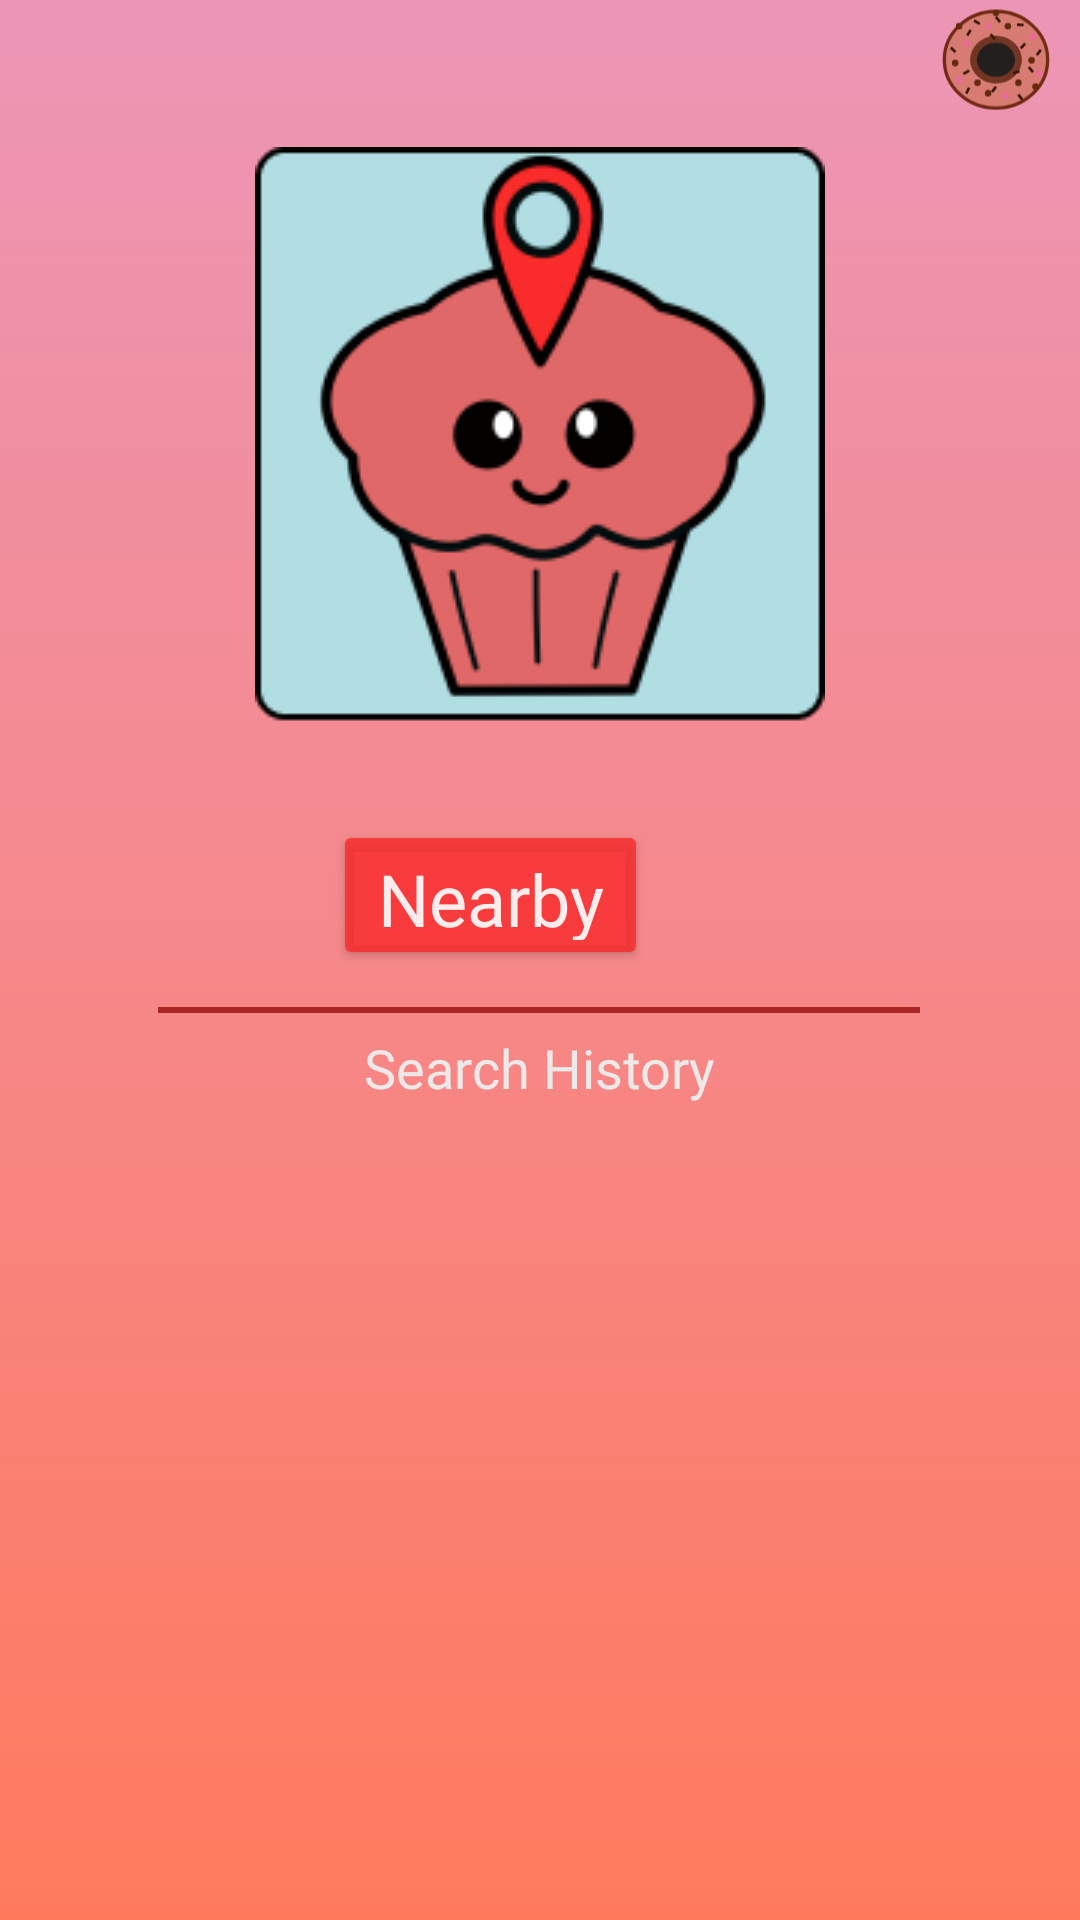

Icons on this 1080w x 1920h Android screen, each with the point to tap as (x,y):
donut: (996,59)
